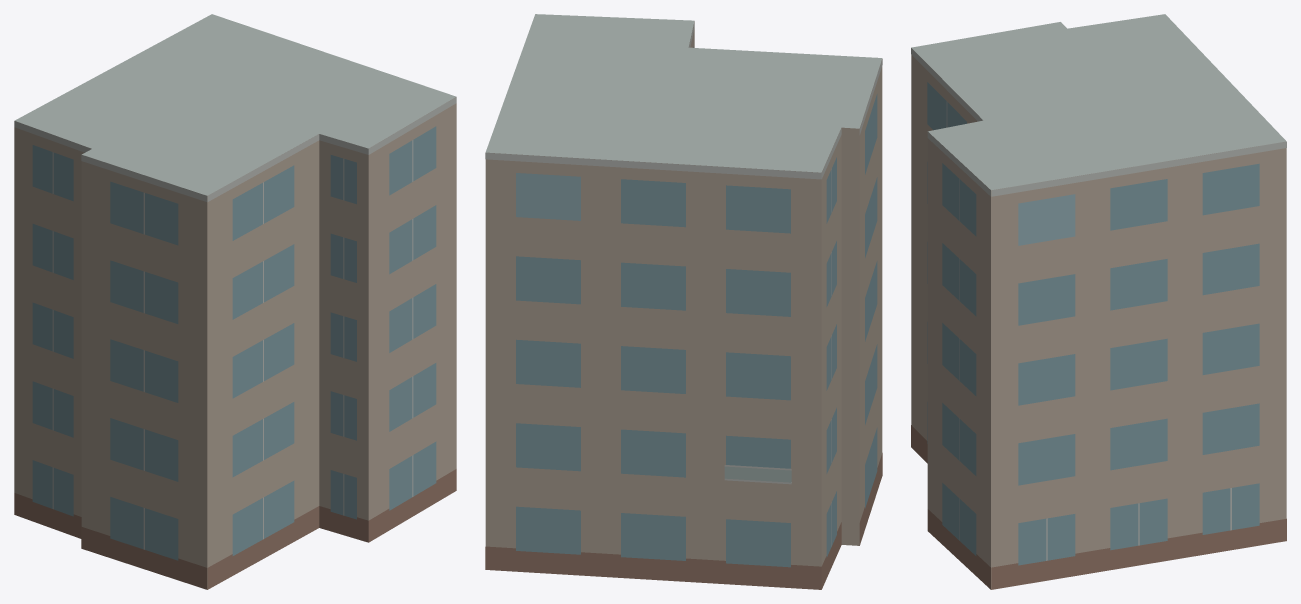
Rendered from survey-upis-32853749.glb.
The picture shows the model from 3 angles, left to right: view 1: azimuth 30°, elevation 25°; view 2: azimuth 150°, elevation 25°; view 3: azimuth 270°, elevation 25°; orthographic projection. The views are drawn at different scales.
Visible parts, largest first — view 1: survey-upis-32853749.tmp; view 2: survey-upis-32853749.tmp; view 3: survey-upis-32853749.tmp.
Boxes of the visible parts, x1,y1,x2,y2 form: survey-upis-32853749.tmp: (14,14,456,589); survey-upis-32853749.tmp: (485,14,882,589); survey-upis-32853749.tmp: (911,14,1286,589).
Bounding box in the file's own units: 14.11 × 14.9 × 12.7.
